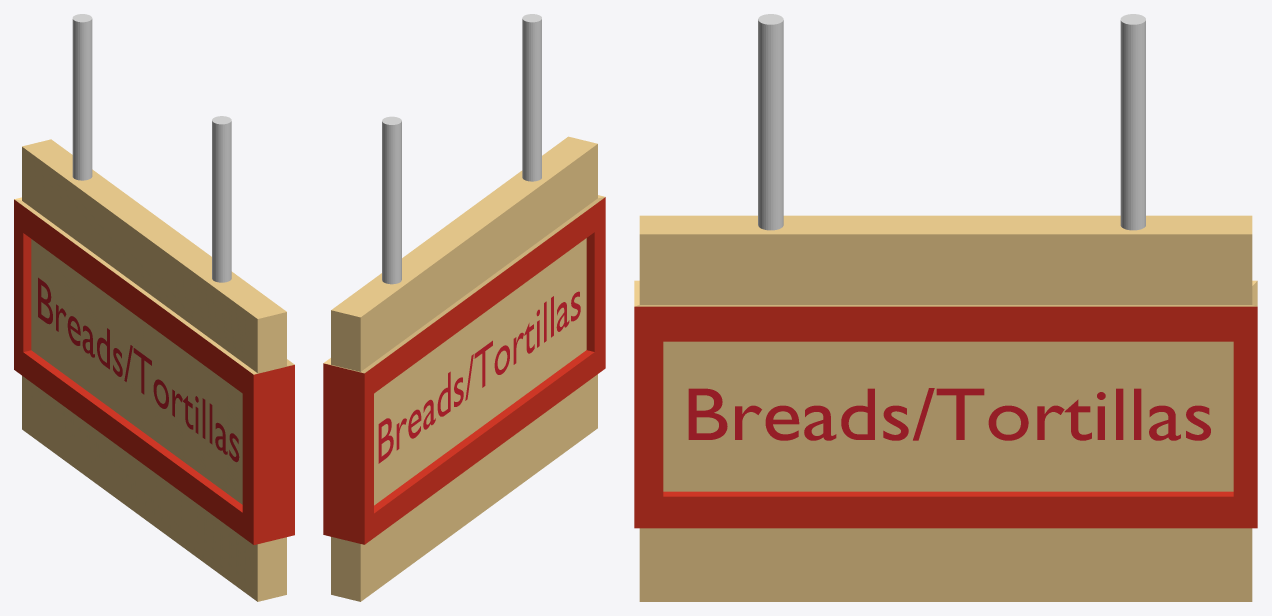
The model's file is breadSign.fbx.
3 views of the same model, side by side, from view 1: azimuth 30°, elevation 25°; view 2: azimuth 150°, elevation 25°; view 3: azimuth 270°, elevation 25° (orthographic). The views are drawn at different scales.
Parts seen in each view (by area): view 1: baseSign, Cylinder.001, Cylinder.000, BaseText.001; view 2: baseSign, Cylinder.001, Cylinder.000, BaseText.001; view 3: baseSign, BaseText.000, Cylinder.001, Cylinder.000.
Boxes of the visible parts, <box> form: baseSign: <box>14,139,294,601</box>; Cylinder.001: <box>72,14,92,180</box>; Cylinder.000: <box>212,116,231,282</box>; BaseText.001: <box>38,277,239,462</box>; baseSign: <box>323,136,605,601</box>; Cylinder.001: <box>382,116,401,284</box>; Cylinder.000: <box>522,14,541,181</box>; BaseText.001: <box>378,291,580,463</box>; baseSign: <box>634,215,1257,601</box>; BaseText.000: <box>688,388,1210,440</box>; Cylinder.001: <box>1120,14,1145,230</box>; Cylinder.000: <box>758,14,783,230</box>.
Size of the model in its own units: 42.35 by 434 by 427.
